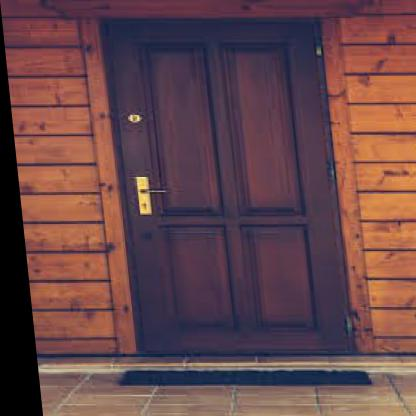door: (107, 23, 345, 349)
